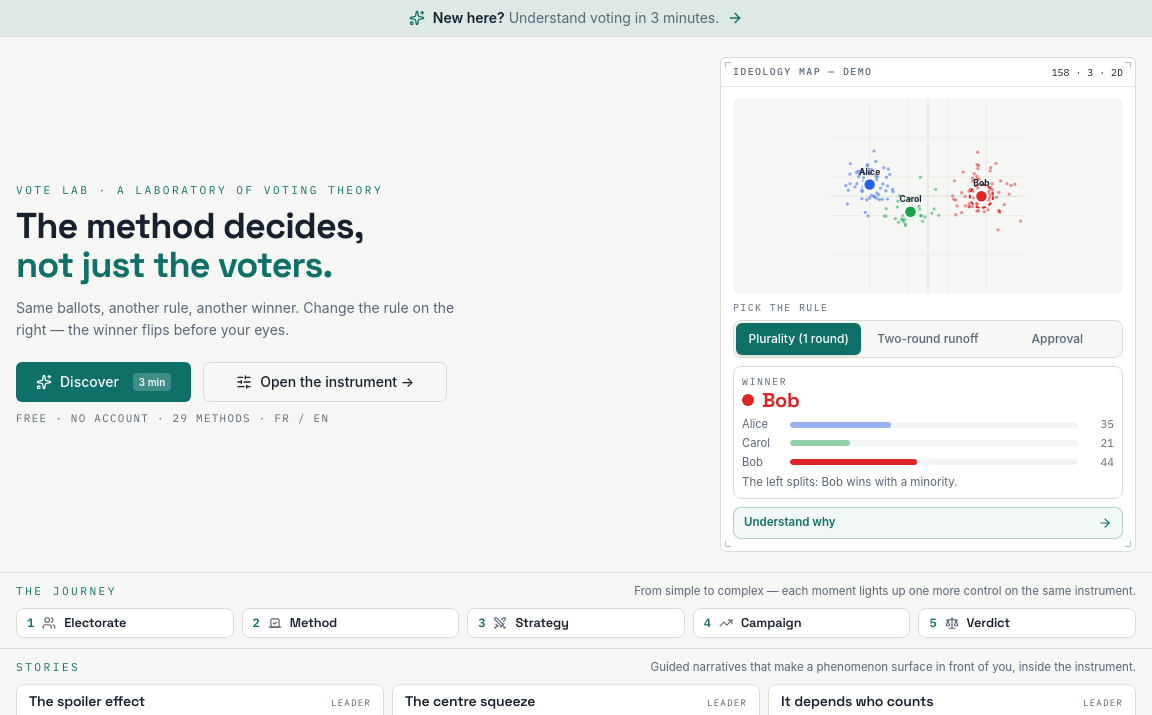
Test case: HomePage › the hero instrument flips the winner when the rule changes (same ballots)
Expected: the text with test id "hero-winner" reads "Bob", [762,387,800,413]
Note: Two-round runoff: the left rallies → Alice.
Click the radio button with test id "hero-rule-runoff": (928, 339) [865,323,991,355]
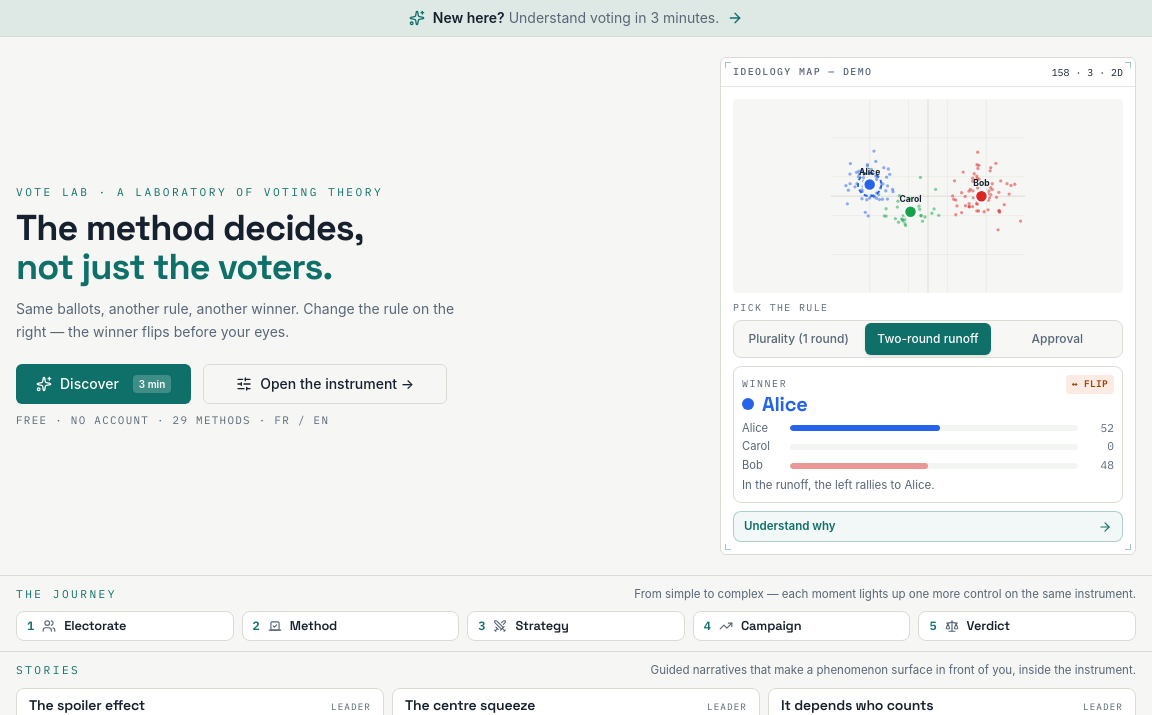
Now the text with test id "hero-winner" reads "Alice", box [762,391,808,417]
Note: Approval: broadly approved → Carol.
Click the radio button with test id "hero-rule-approval": (1057, 339) [995,323,1120,355]
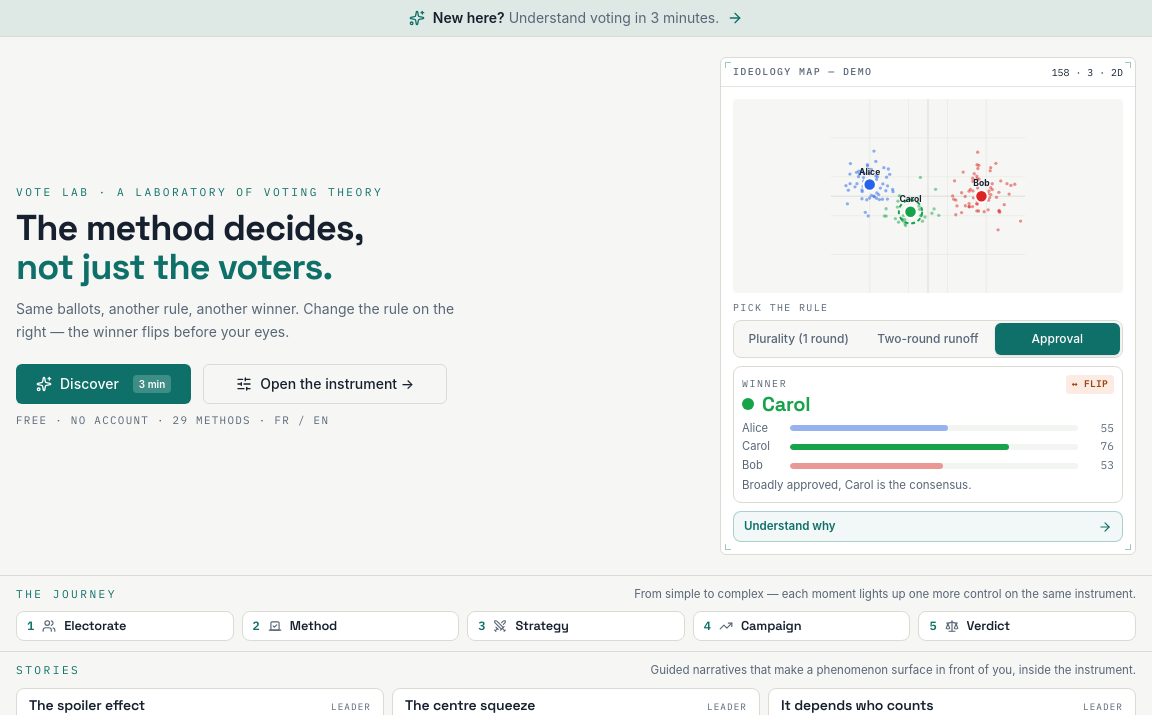
Now the text with test id "hero-winner" reads "Carol", box [762,391,810,417]
